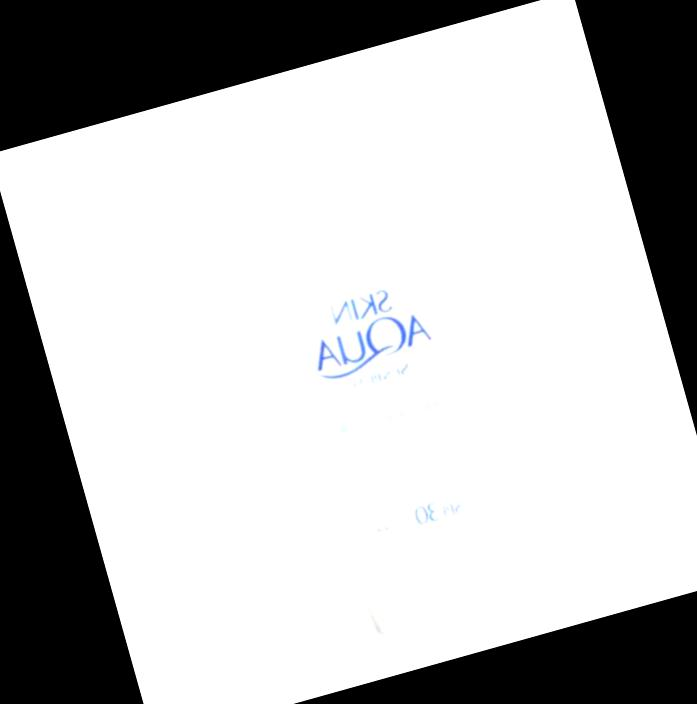cosmetic: (223, 89, 530, 637)
